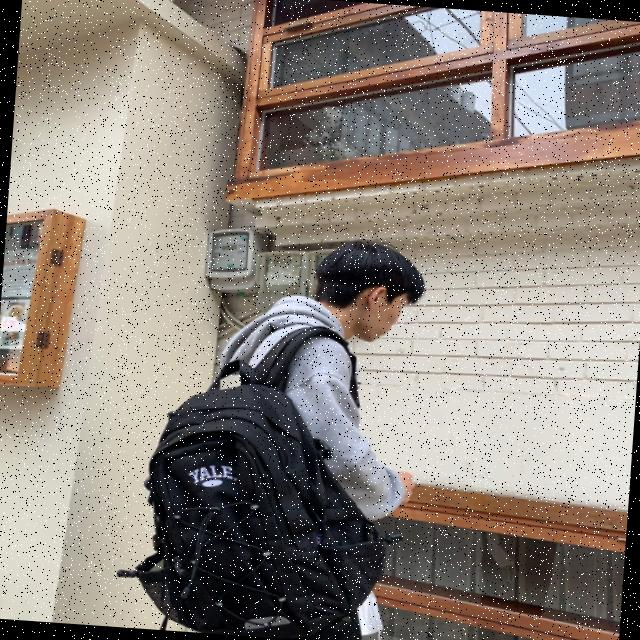backpack: (105, 351, 409, 640)
